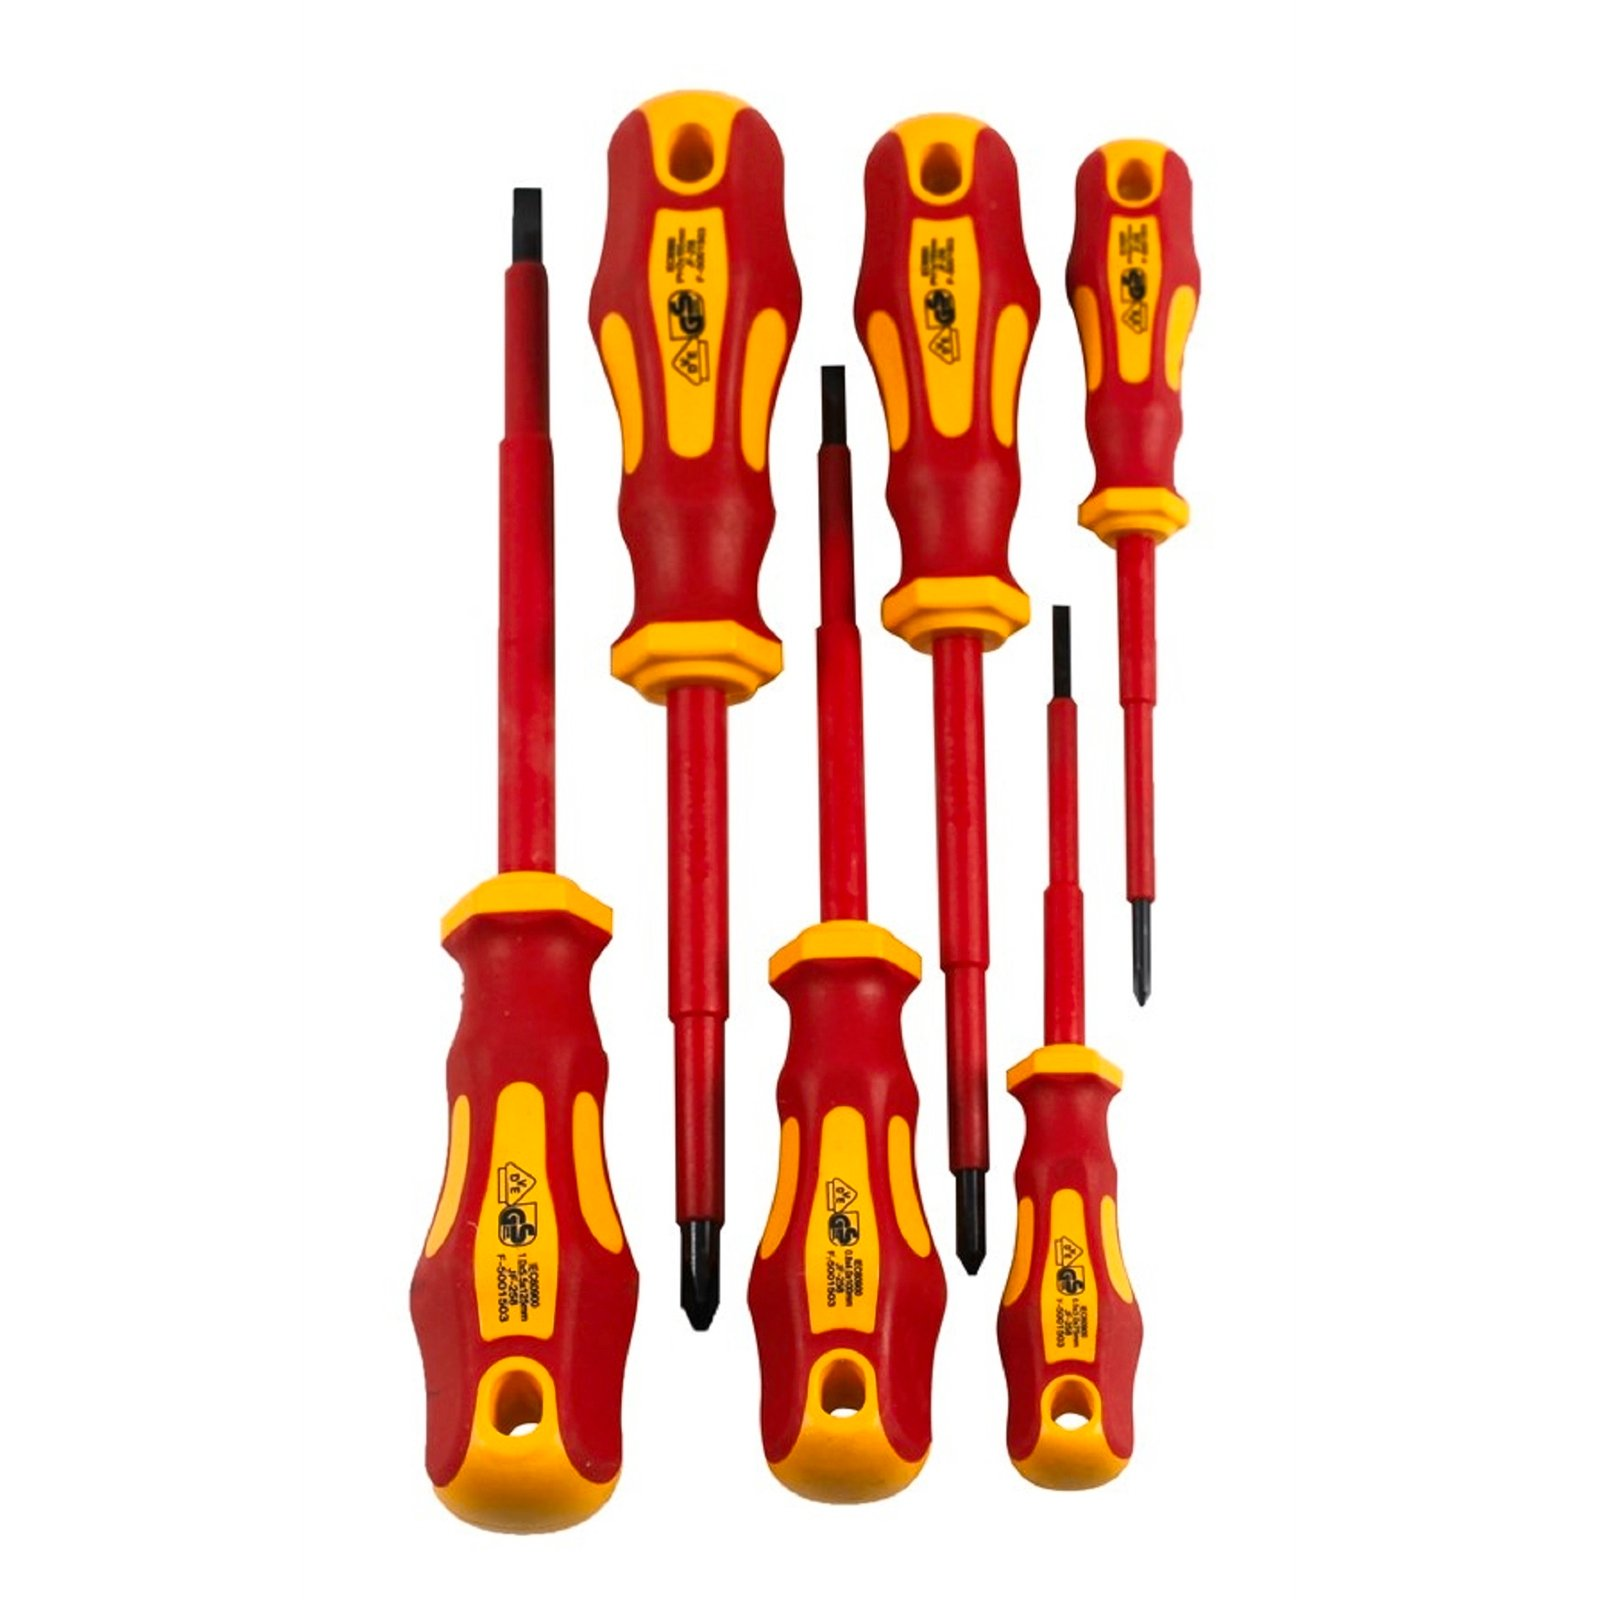screwdriver: (399, 188, 642, 1525), (577, 88, 801, 1333), (730, 359, 942, 1503), (847, 98, 1045, 1284), (974, 598, 1152, 1492), (1061, 141, 1206, 1010)
